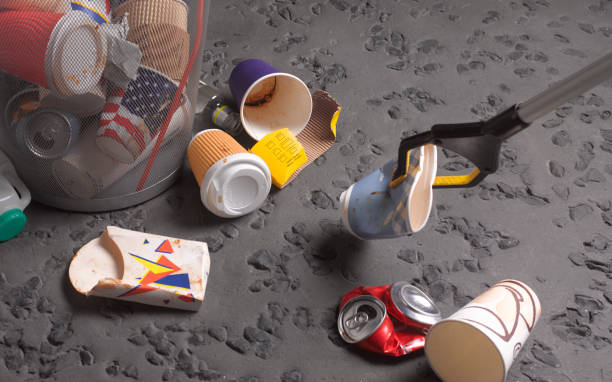metal: (324, 275, 441, 378), (192, 95, 259, 144)
paper: (0, 0, 199, 217), (25, 226, 235, 318), (419, 260, 563, 382), (326, 130, 447, 248), (218, 45, 325, 149), (182, 115, 272, 230)
plastic: (0, 145, 35, 247)
